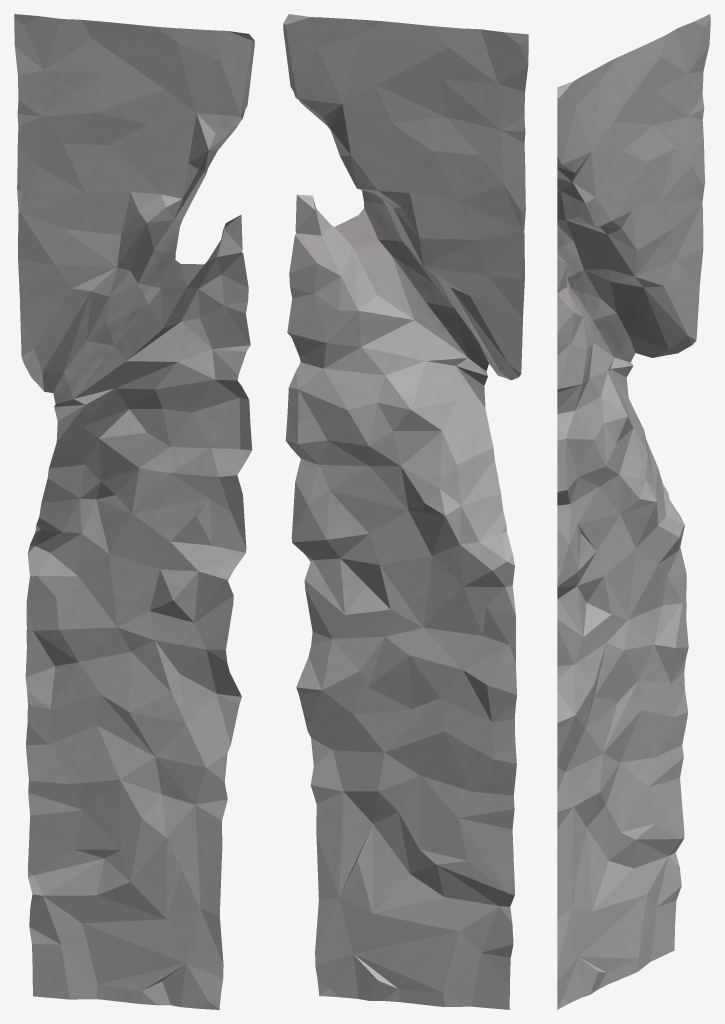
3 renders of one model, left to right at view 1: azimuth 30°, elevation 25°; view 2: azimuth 210°, elevation 25°; view 3: azimuth 270°, elevation 25°, orthographic. The views are drawn at different scales.
Bounding box in the file's own units: 0.1457 × 0.8373 × 0.1242.
Materials: 1 (1 with a texture image).
